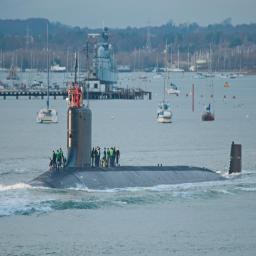submarine: (24, 48, 244, 189)
